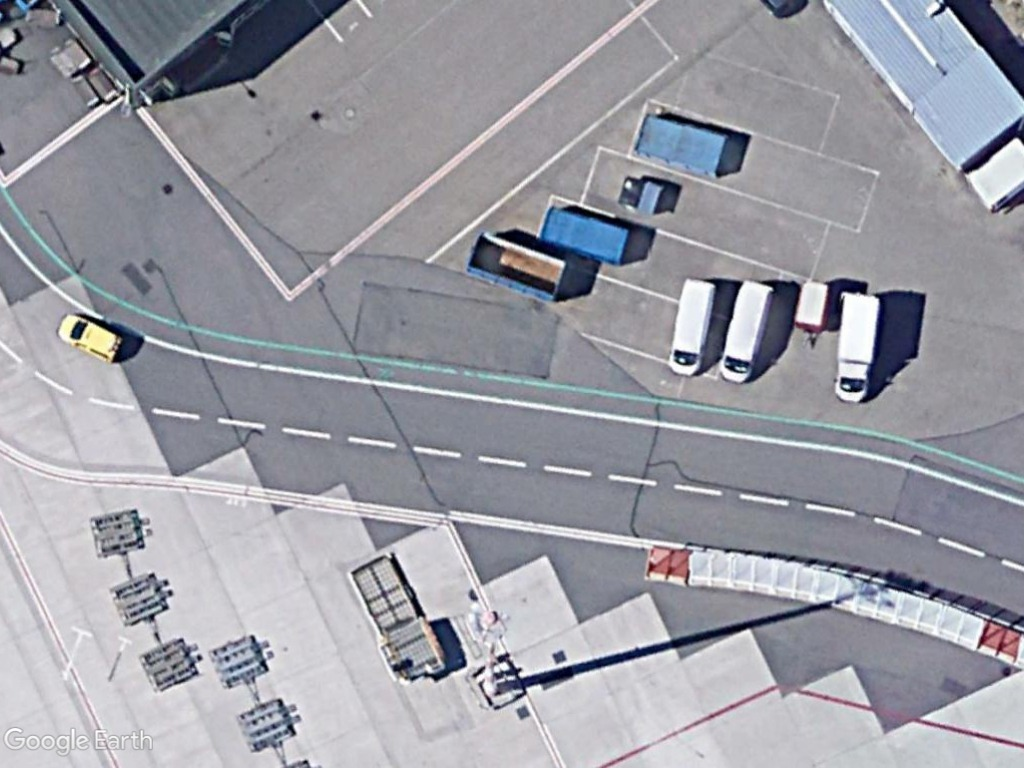truck: (829, 285, 883, 407)
van: (717, 278, 776, 387), (666, 272, 716, 376), (55, 312, 126, 365)
